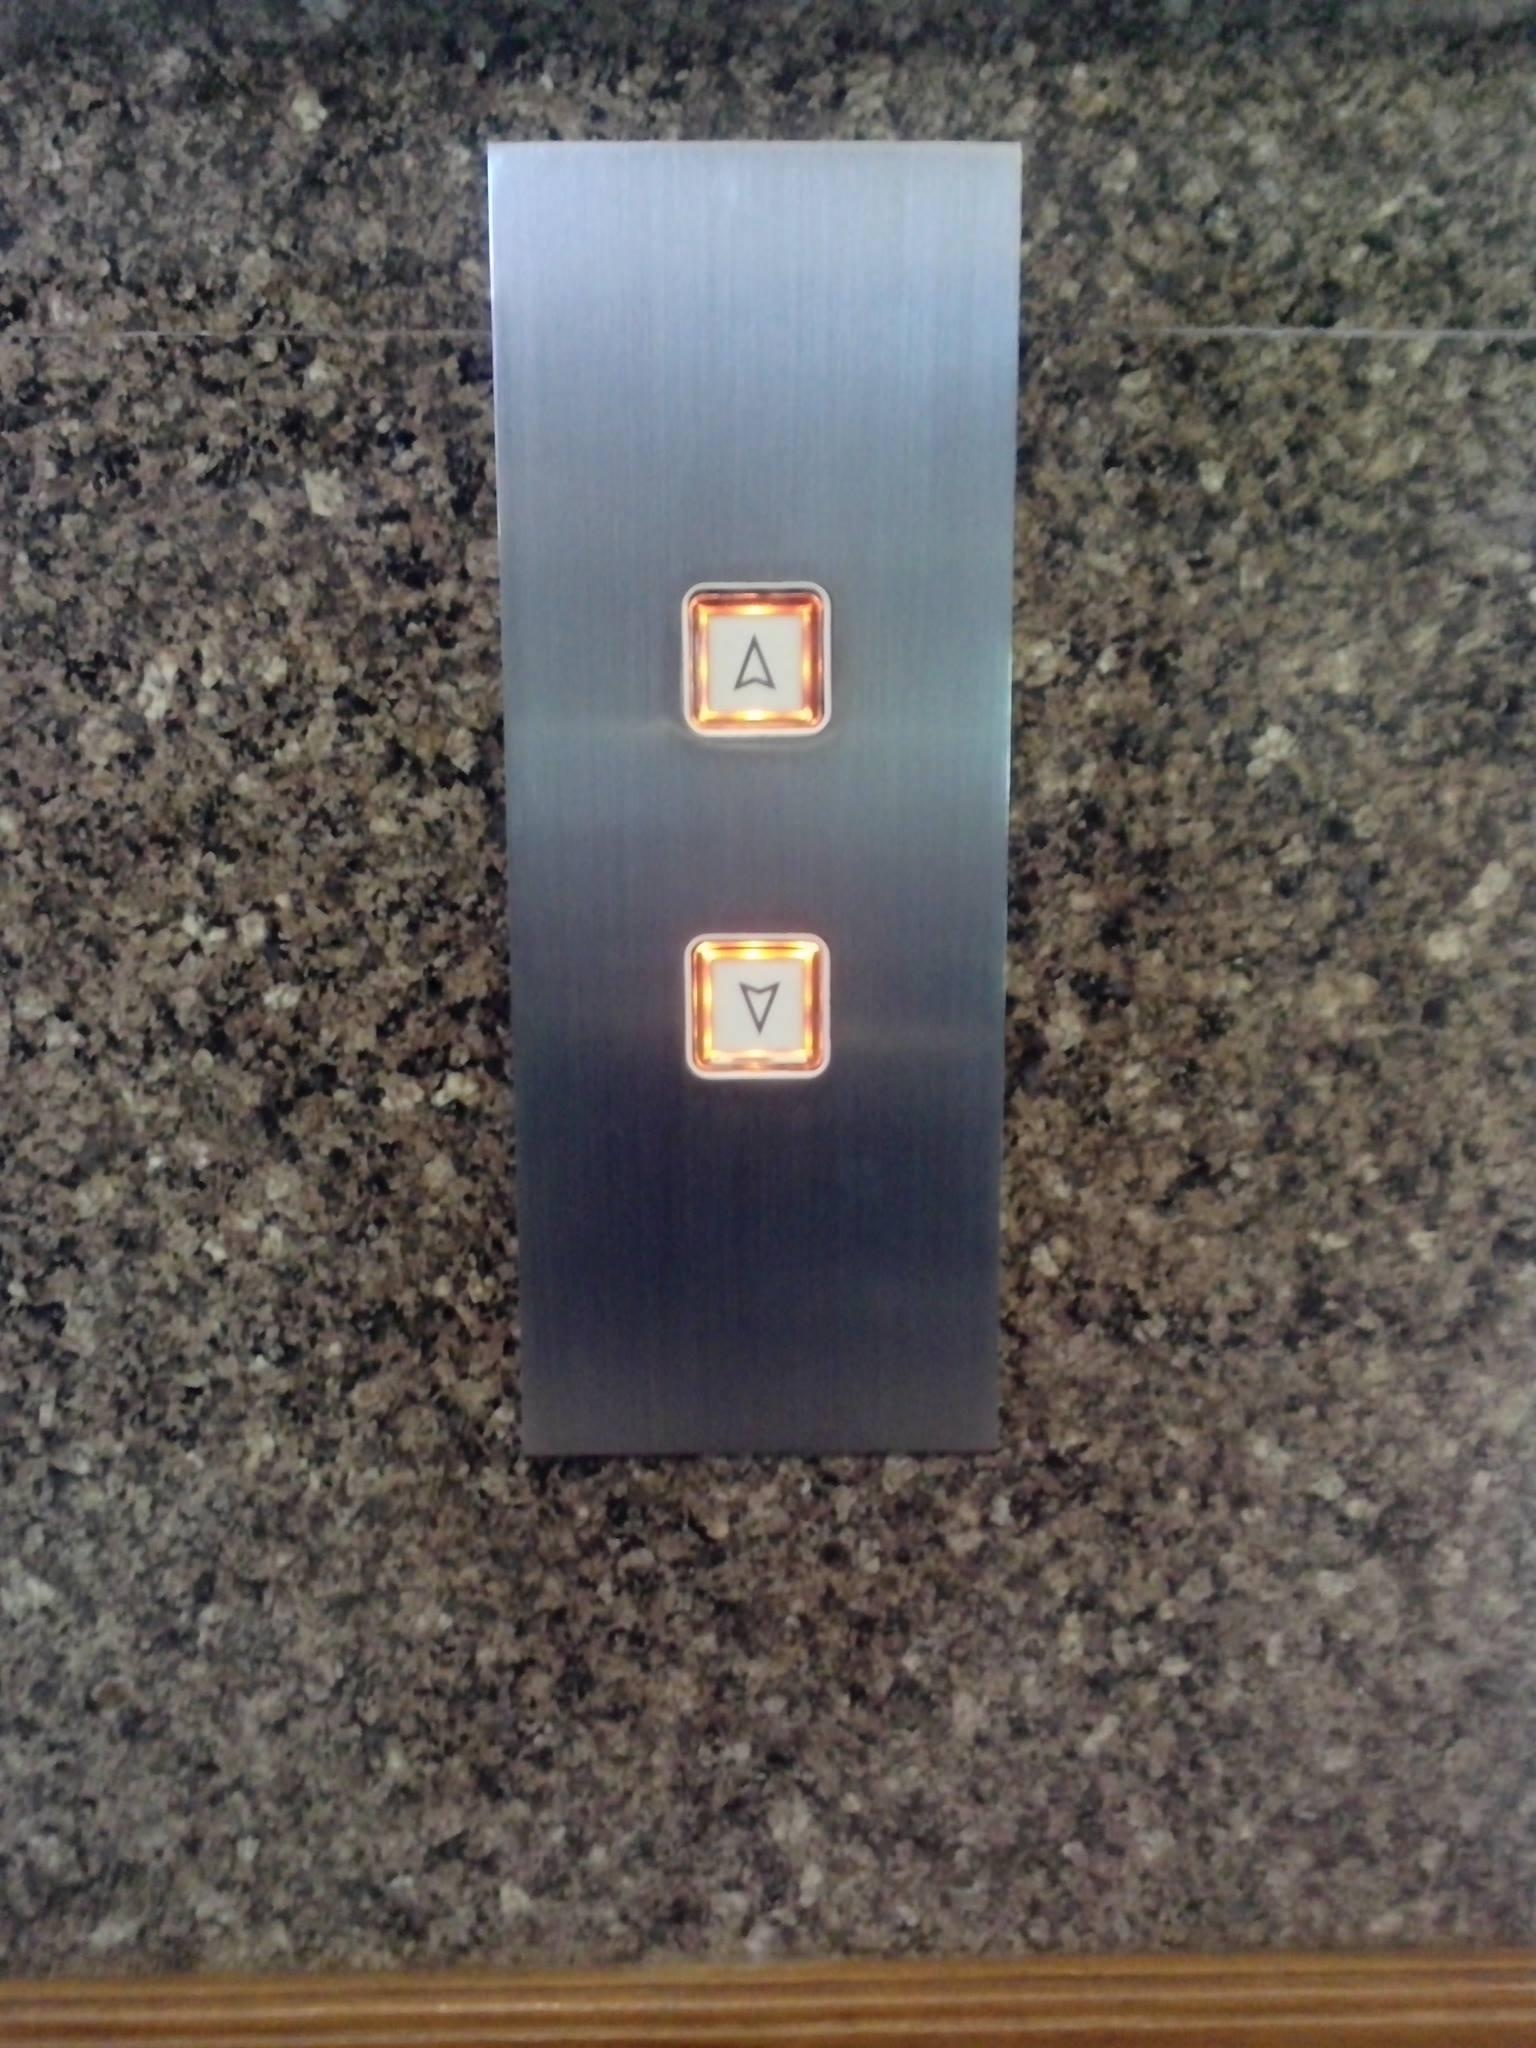down: (678, 922, 837, 1089)
up: (671, 577, 837, 743)
